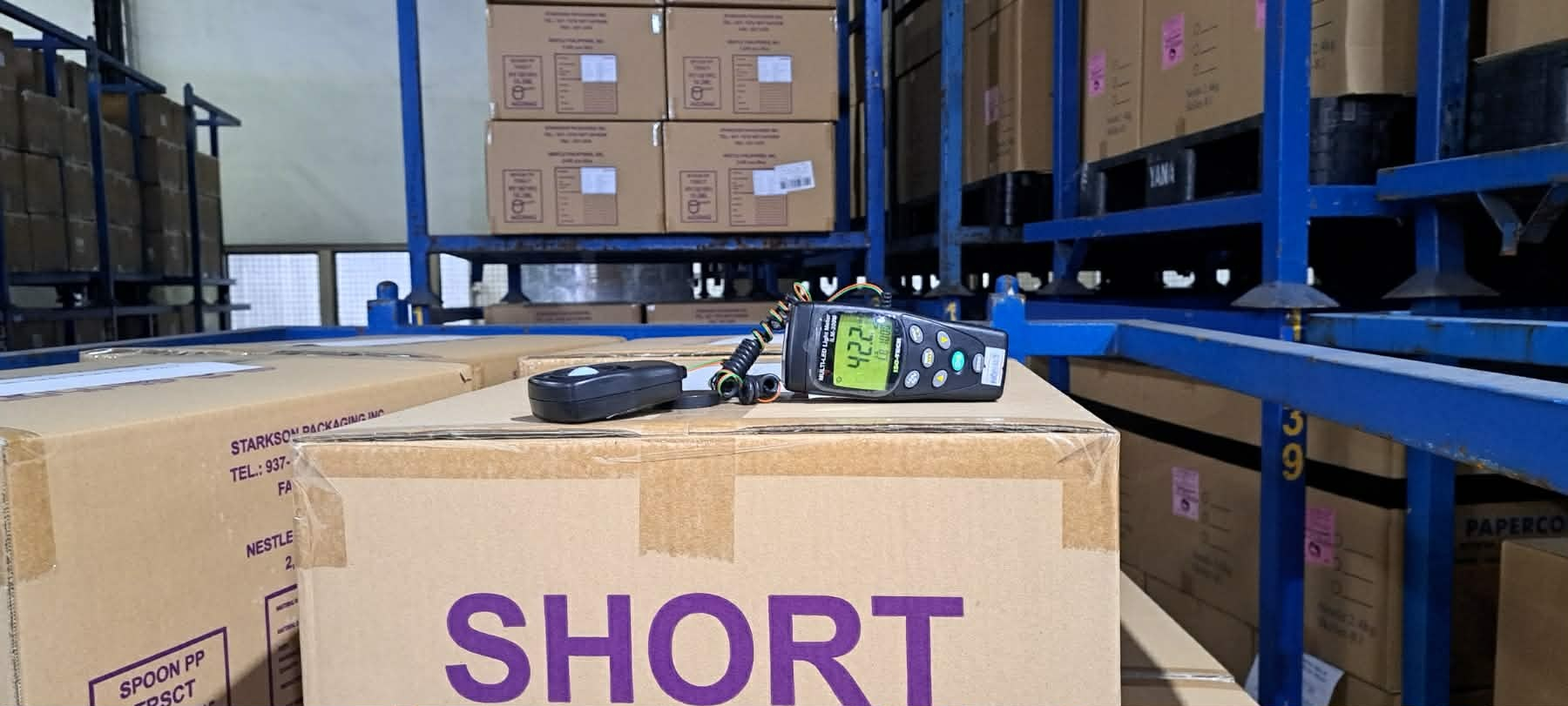cardboard-box: (486, 4, 667, 120), (663, 5, 841, 120), (487, 120, 665, 229), (663, 119, 838, 228)
